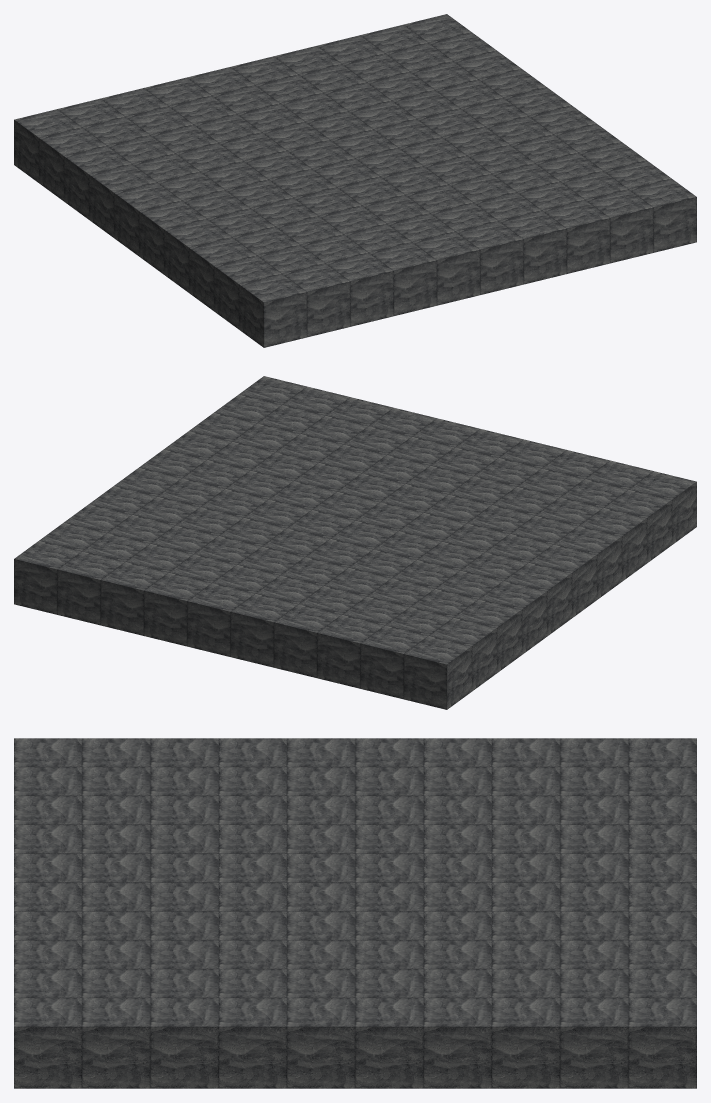
File: DeepslateFloor.fbx
3 views of the same model, one above another, from view 1: azimuth 30°, elevation 25°; view 2: azimuth 150°, elevation 25°; view 3: azimuth 270°, elevation 25° (orthographic). The views are drawn at different scales.
Visible parts, largest first — view 1: Cube; view 2: Cube; view 3: Cube.
Boxes of the visible parts, x1,y1,x2,y2 form: Cube: [14, 14, 696, 347]; Cube: [14, 376, 696, 709]; Cube: [14, 738, 696, 1088].
Bounding box in the file's own units: 20 × 20 × 2.
1 material, 1 textured.
